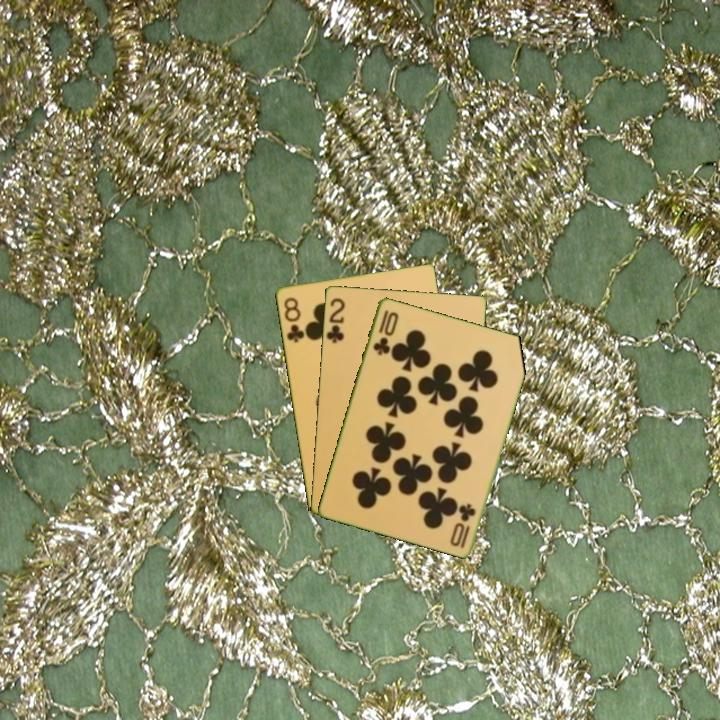10c: (369, 306, 401, 358), (448, 499, 478, 550)
2c: (323, 294, 348, 345)
8c: (280, 293, 307, 345)
